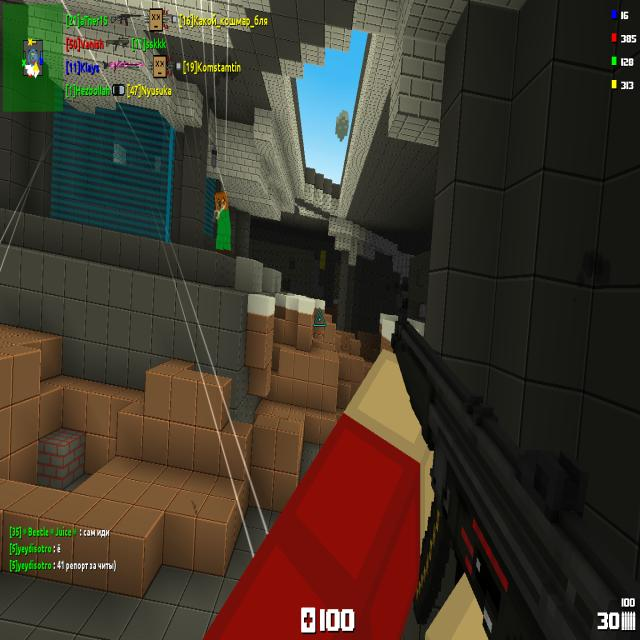enemy: (214, 190, 232, 255)
